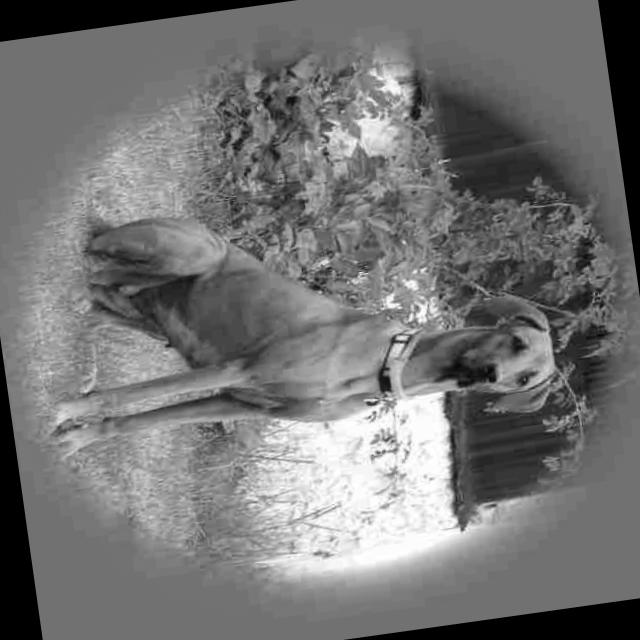sitting: (4, 124, 572, 493)
